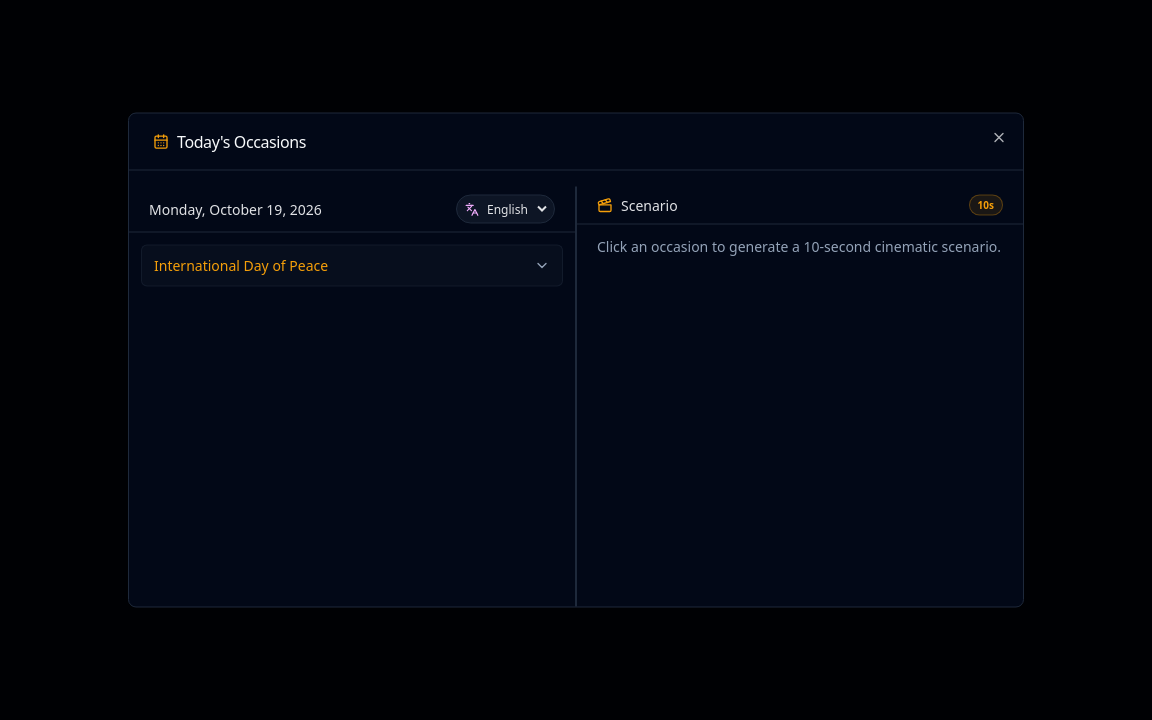
Scenario: CalendarInfoDialog occasion detail › shows the actionable session error returned by the API client
The image size is (1152, 720).
Click the button "International Day of Peace": [241, 265] box top-left (142, 246), bottom-right (562, 286)
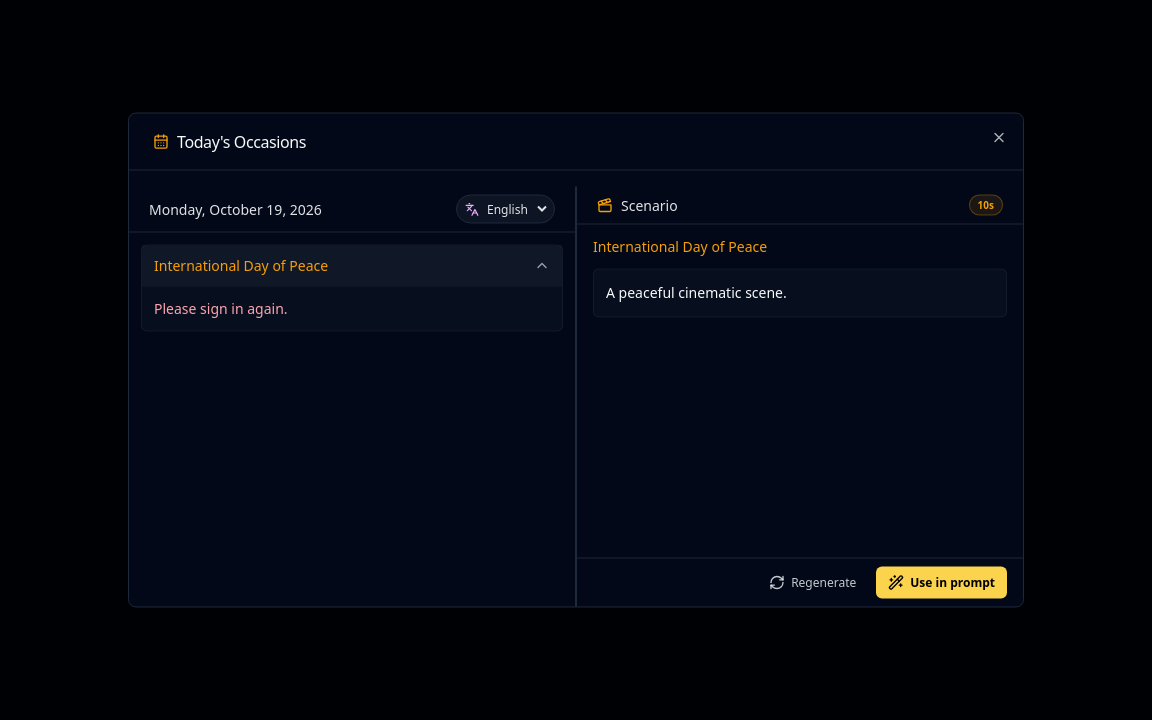
Result: the text "Please sign in again." is shown at top-left (154, 298), bottom-right (288, 318)
